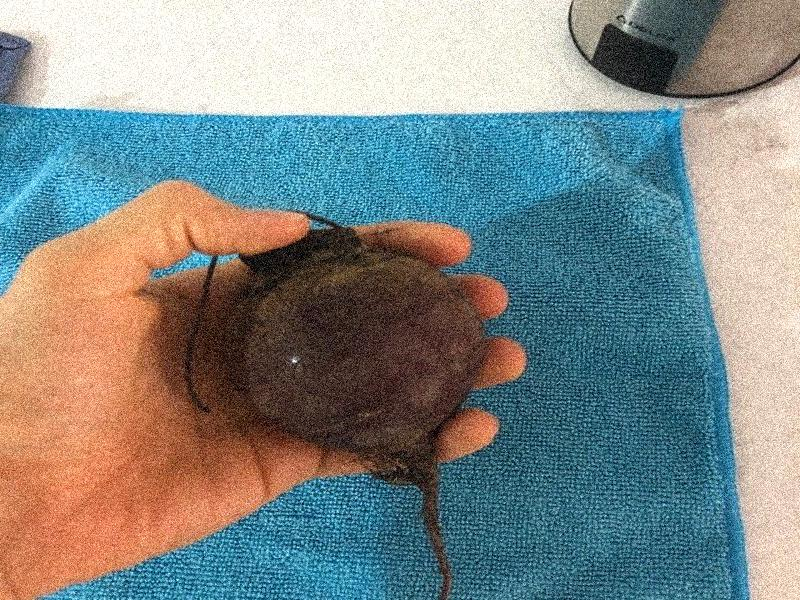Beet: (186, 211, 486, 600)
